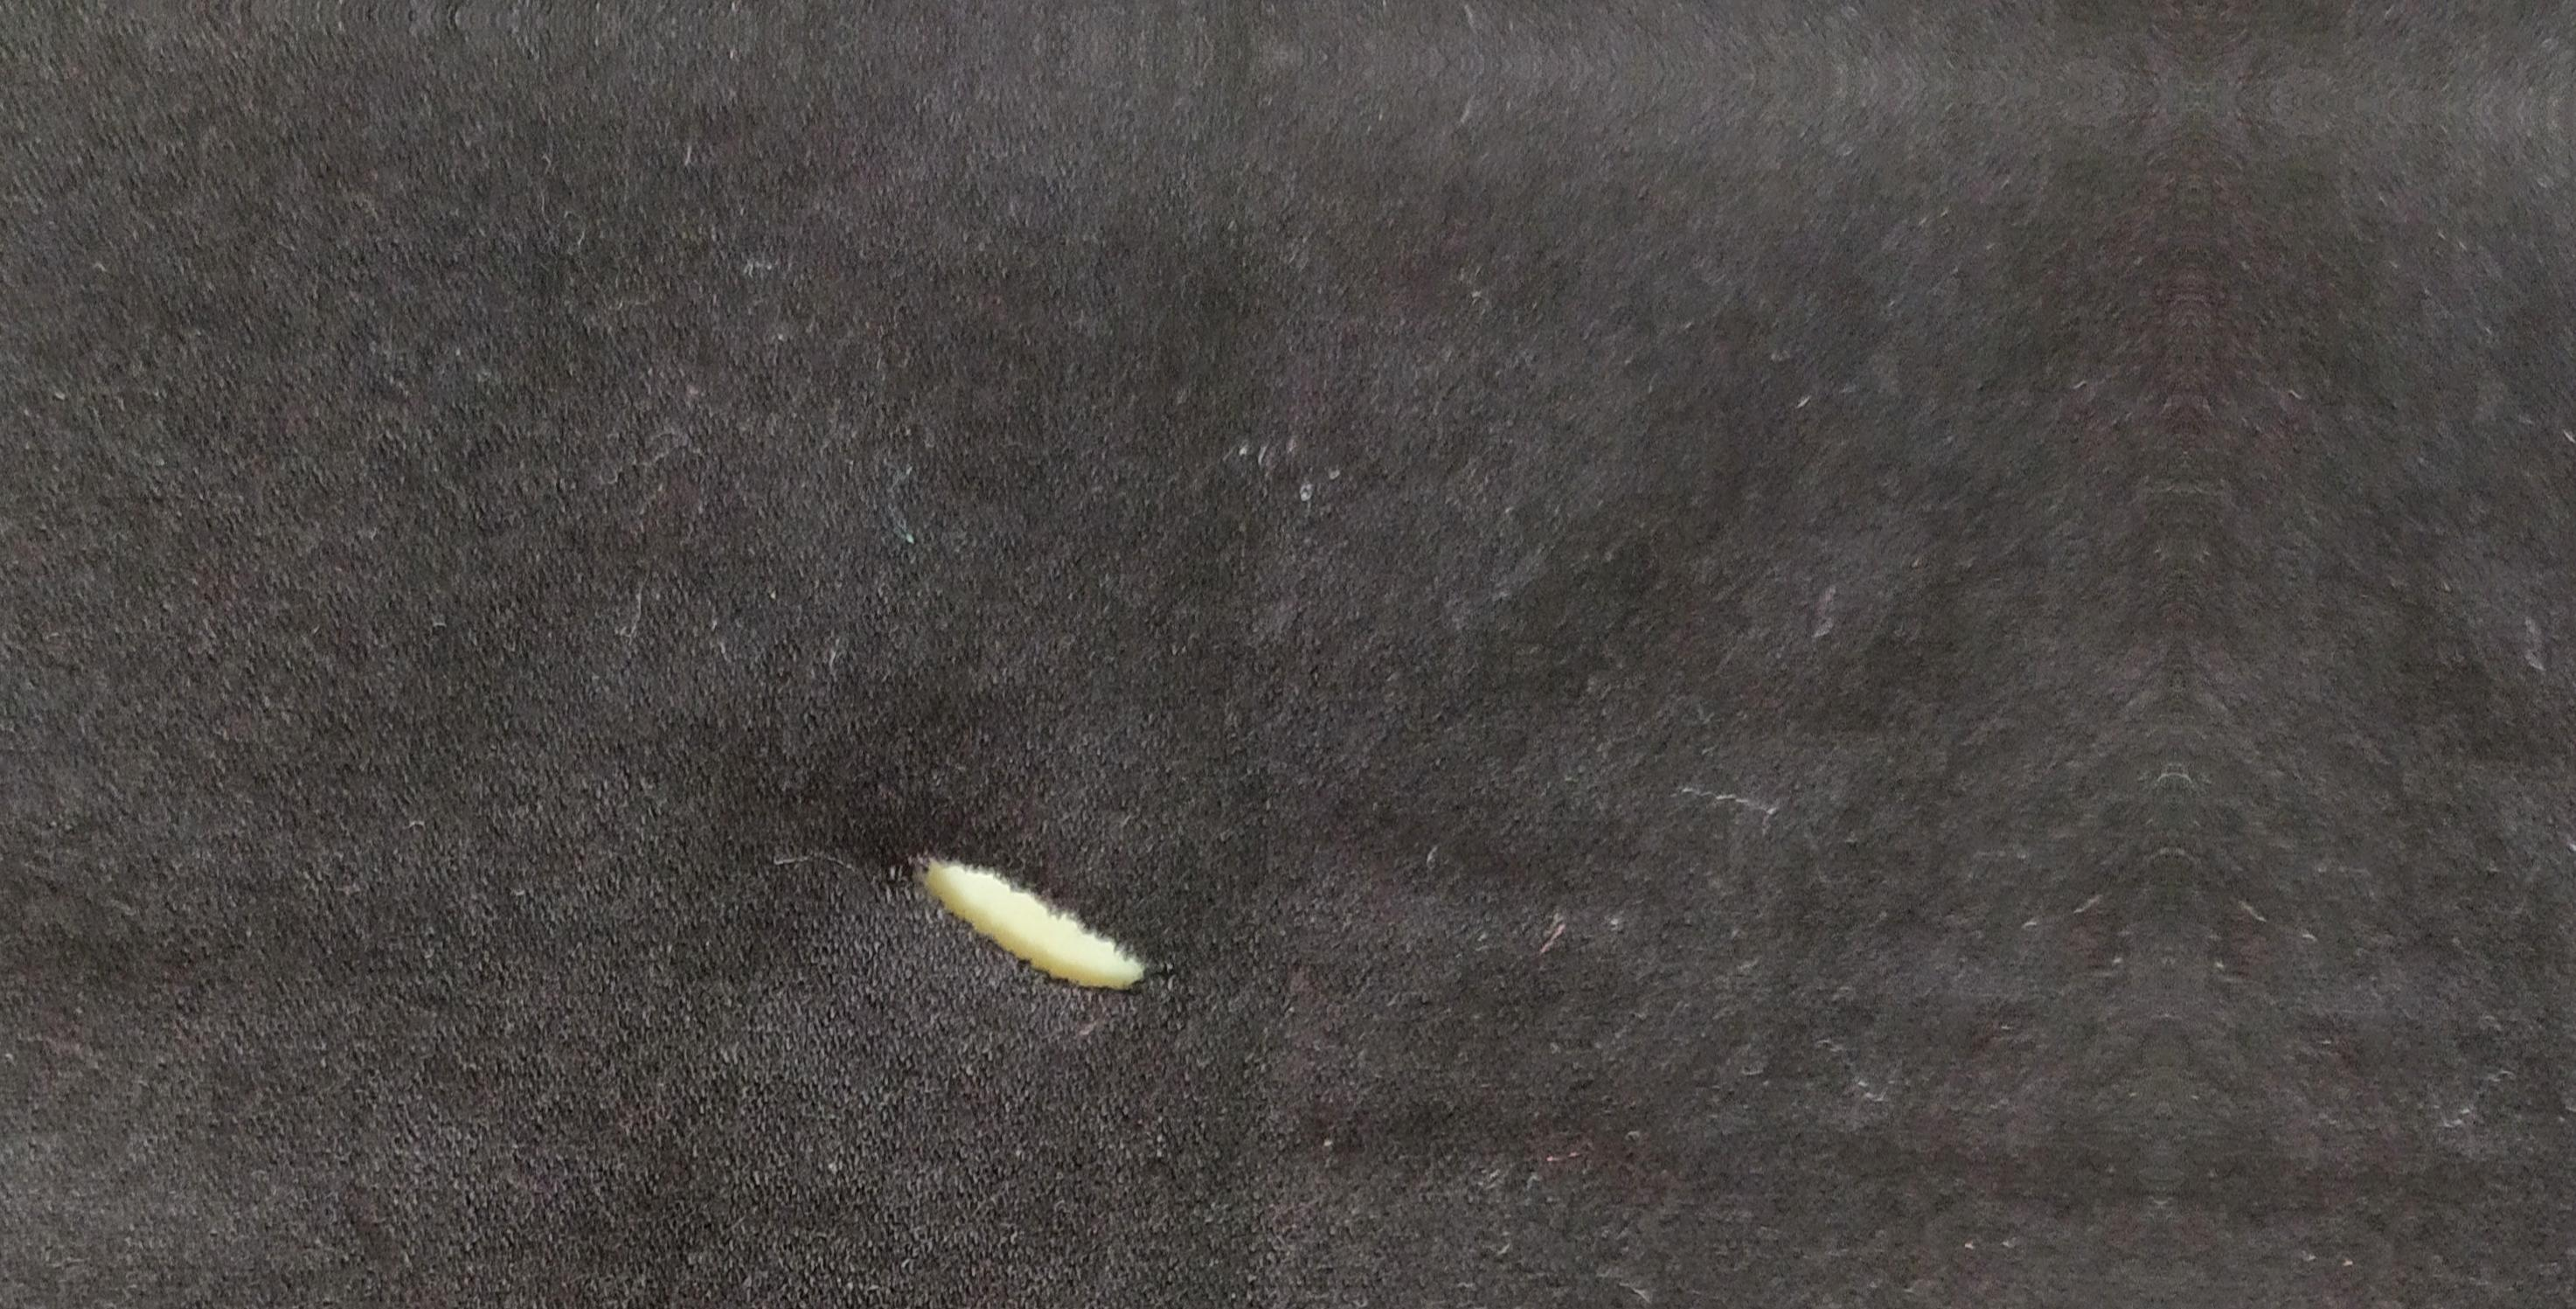hole: (886, 831, 1170, 1032)
